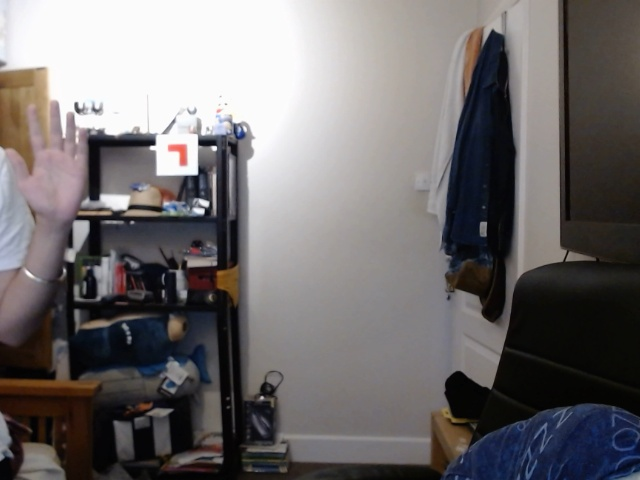Hello: (1, 96, 100, 242)
